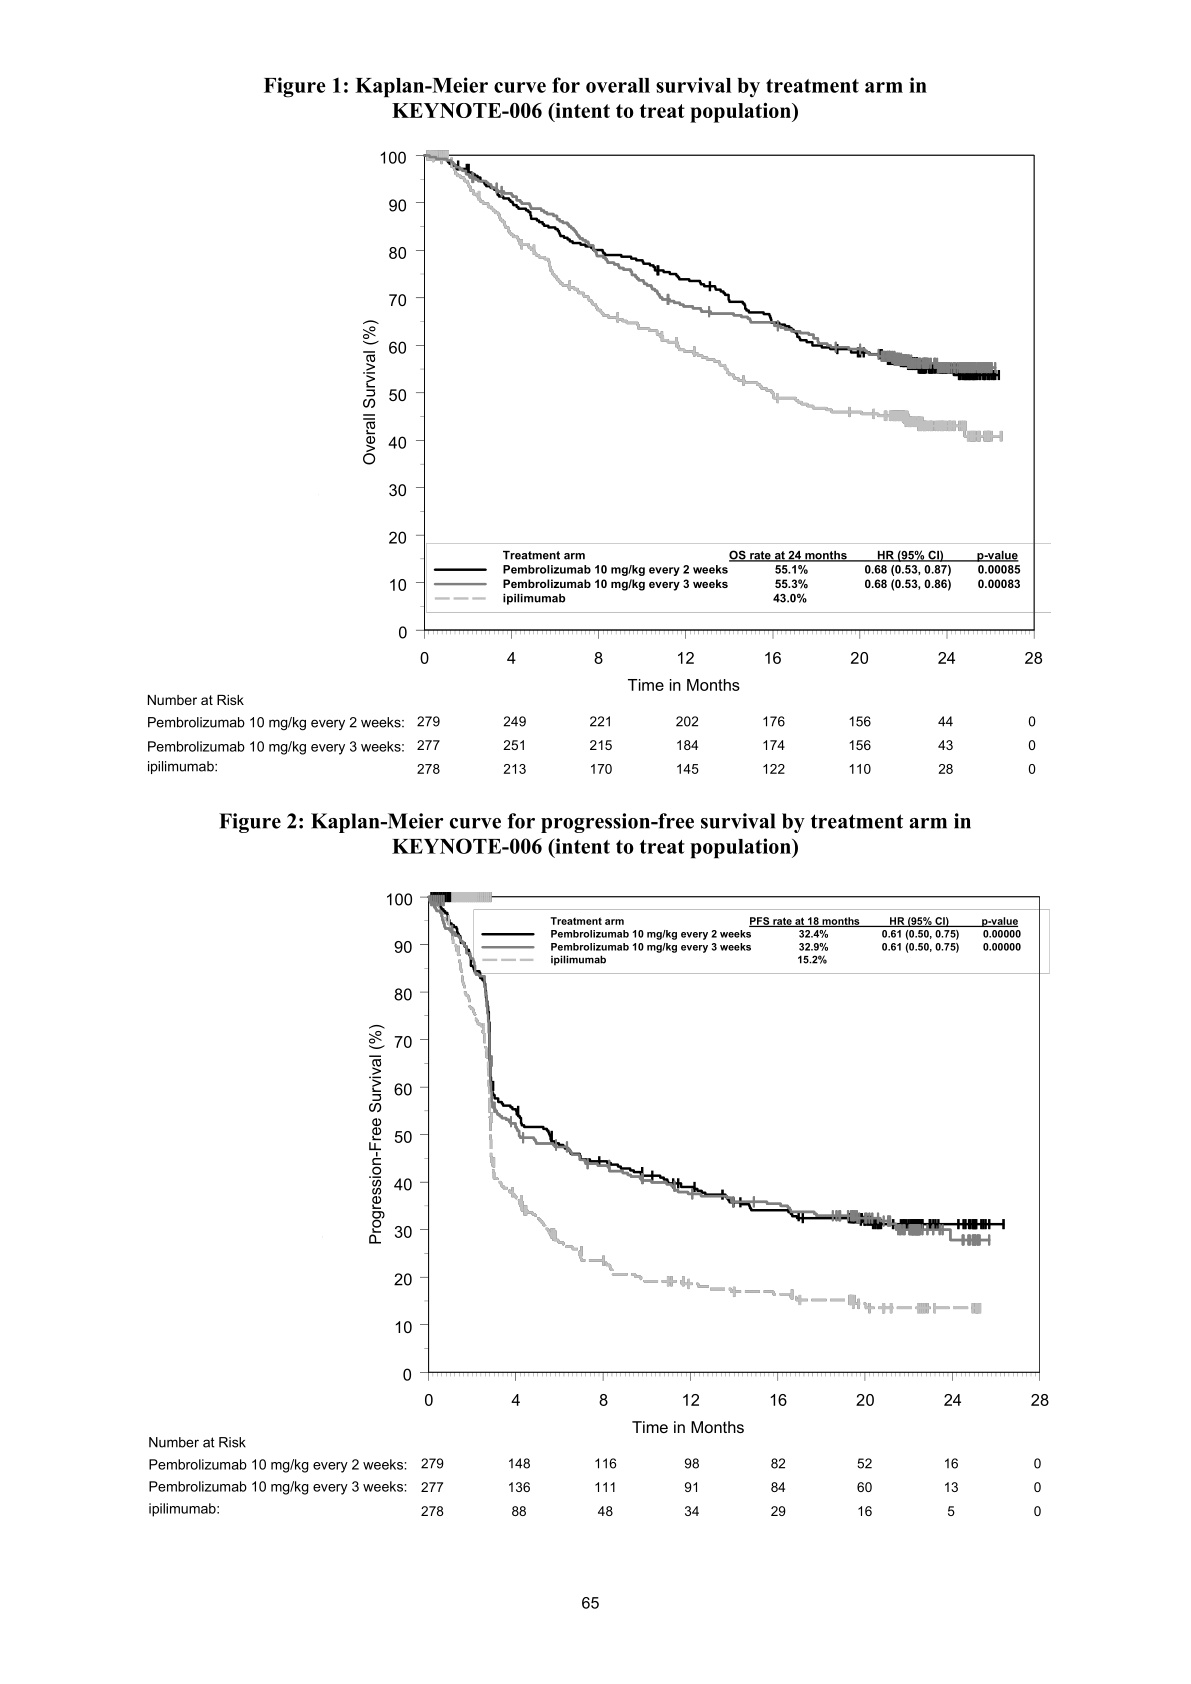nolines: (146, 692, 1038, 776), (147, 1435, 1043, 1517)
